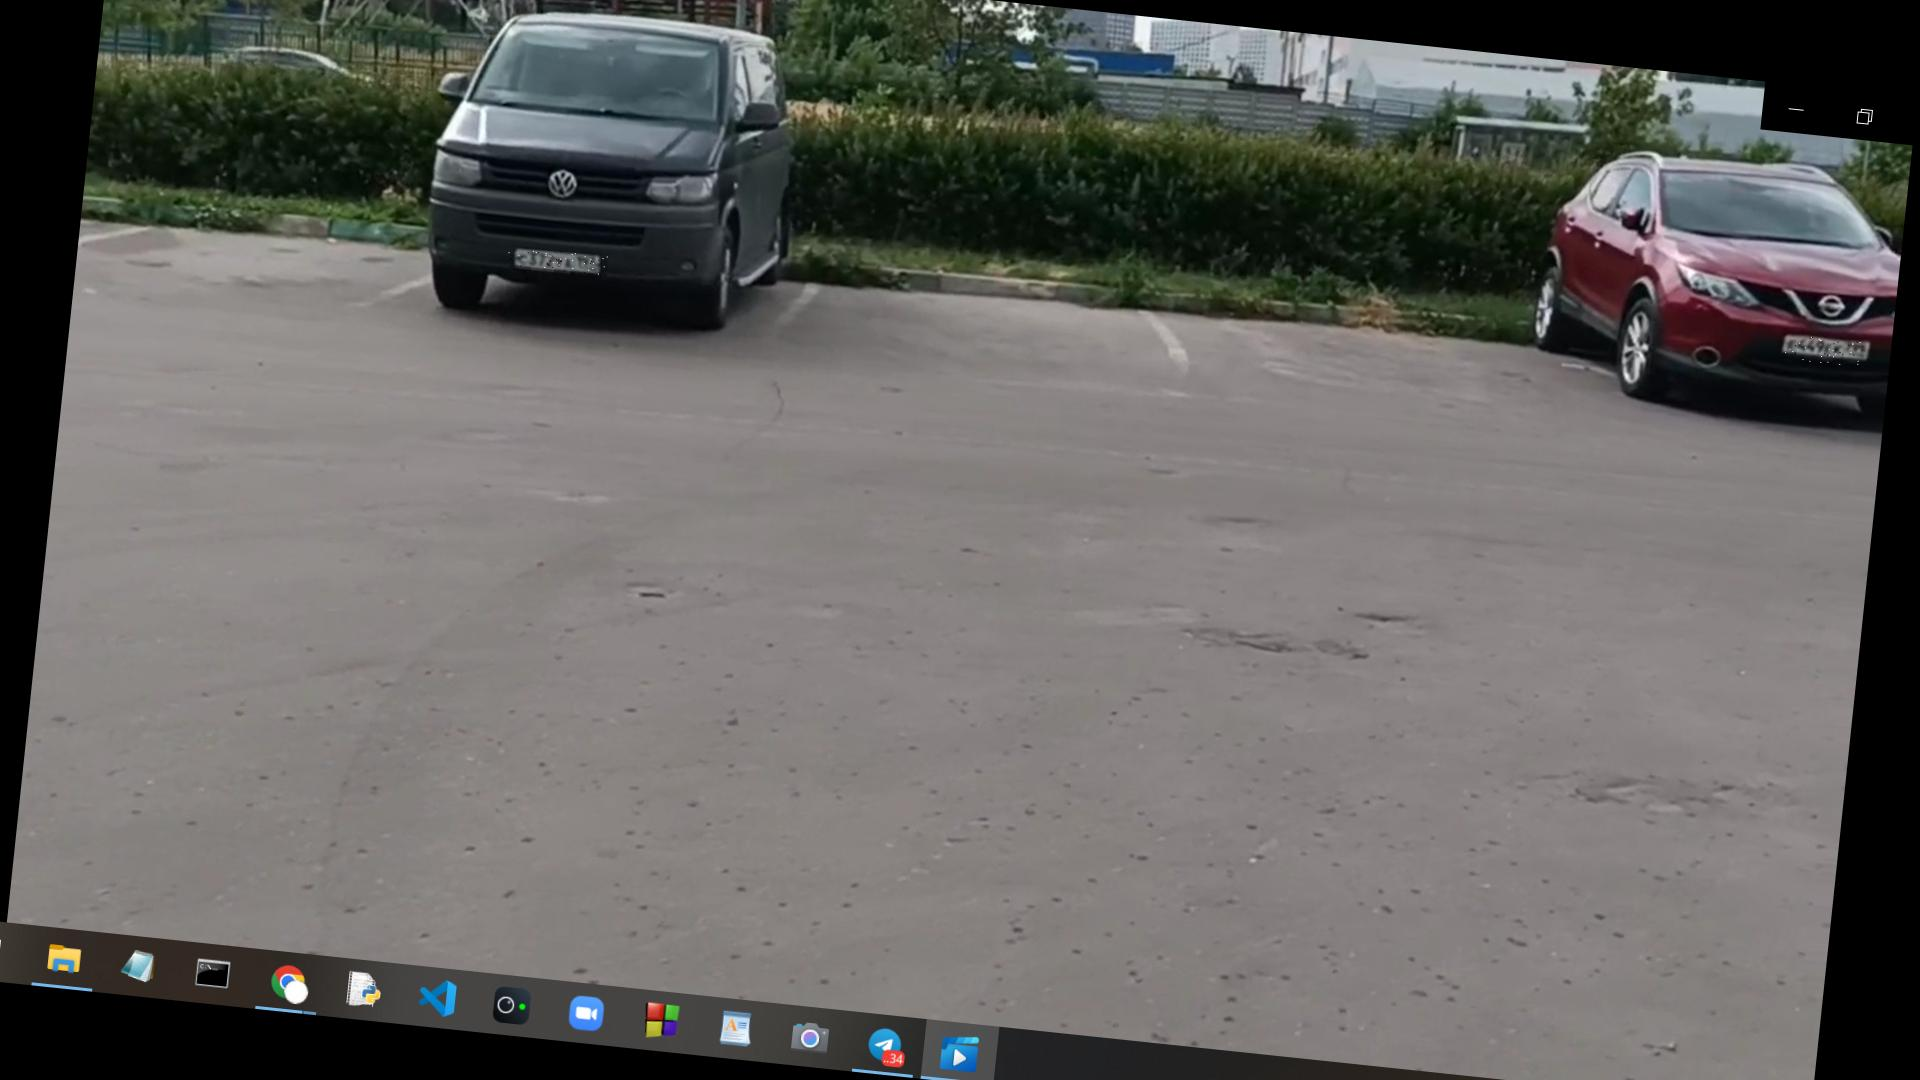plate: (508, 248, 610, 279), (1785, 336, 1869, 369)
